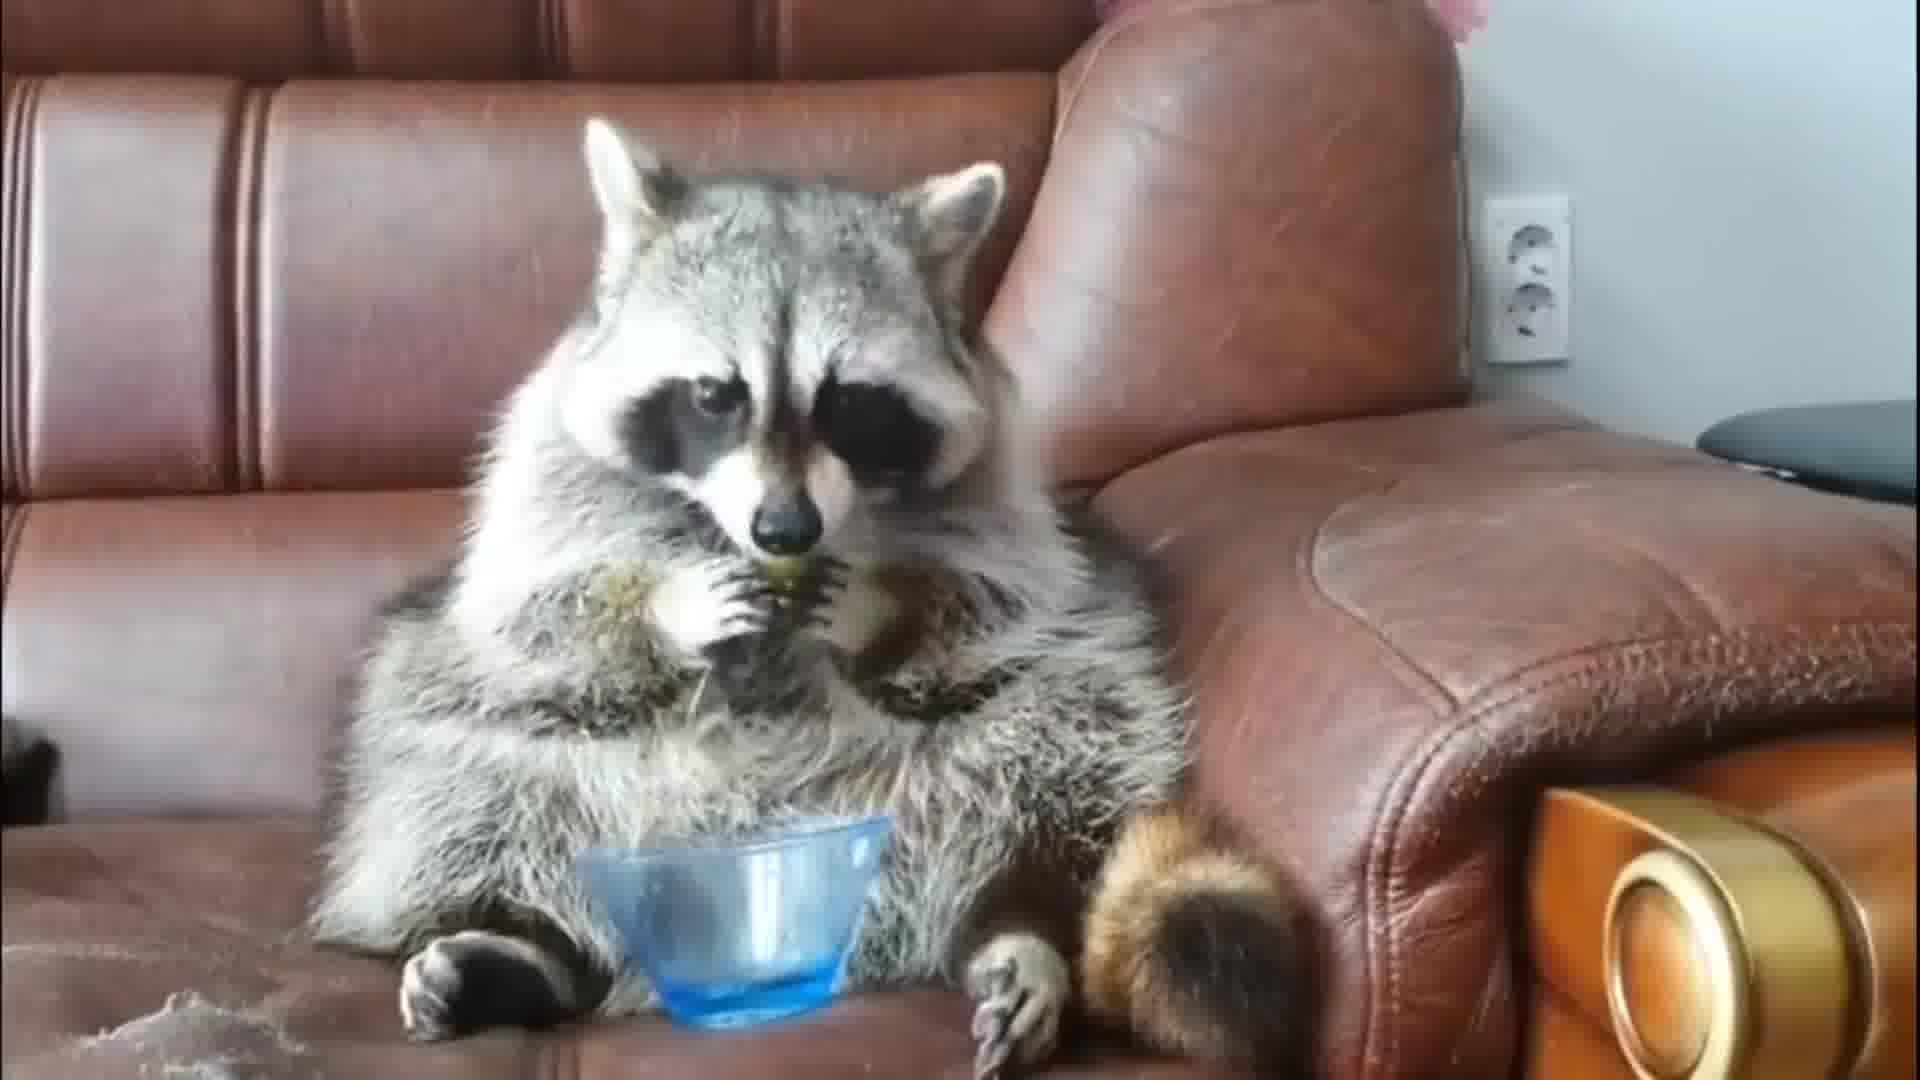raccoon: (304, 106, 1331, 1080)
